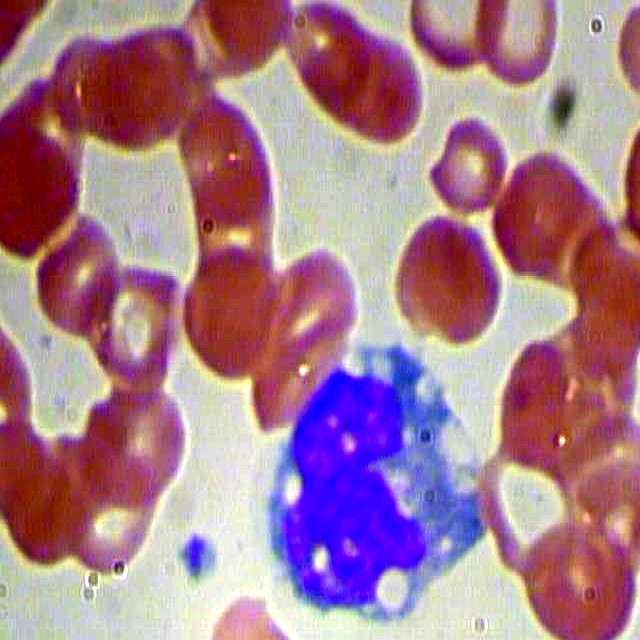Platelets: (174, 524, 217, 588)
RBC: (178, 236, 286, 381), (521, 505, 637, 640), (83, 21, 190, 156), (88, 369, 188, 508), (490, 150, 591, 286), (413, 222, 507, 354), (61, 455, 157, 580), (33, 211, 123, 344), (494, 324, 576, 455), (496, 327, 578, 457), (342, 33, 429, 147), (430, 109, 514, 216), (474, 2, 559, 94), (406, 1, 494, 80)
WBC: (259, 345, 492, 619)
